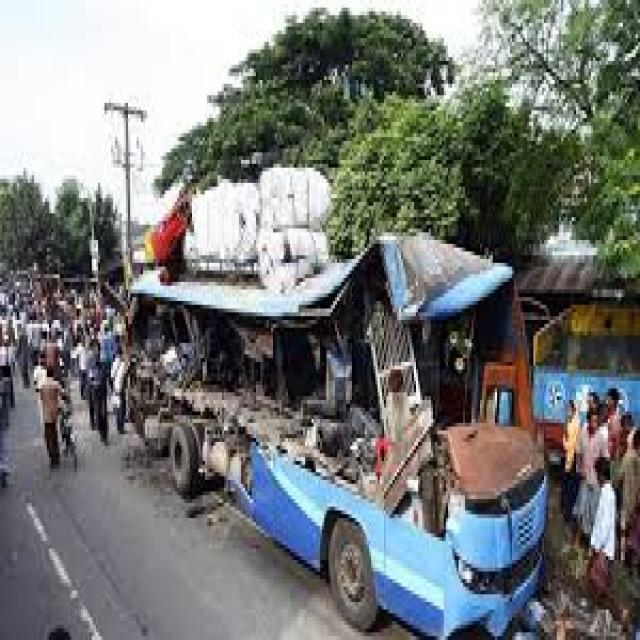accident: (114, 175, 564, 640)
